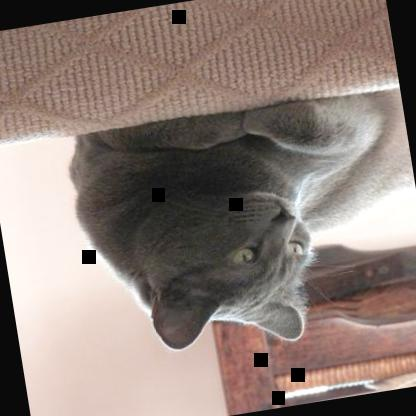cat: (60, 82, 415, 372)
